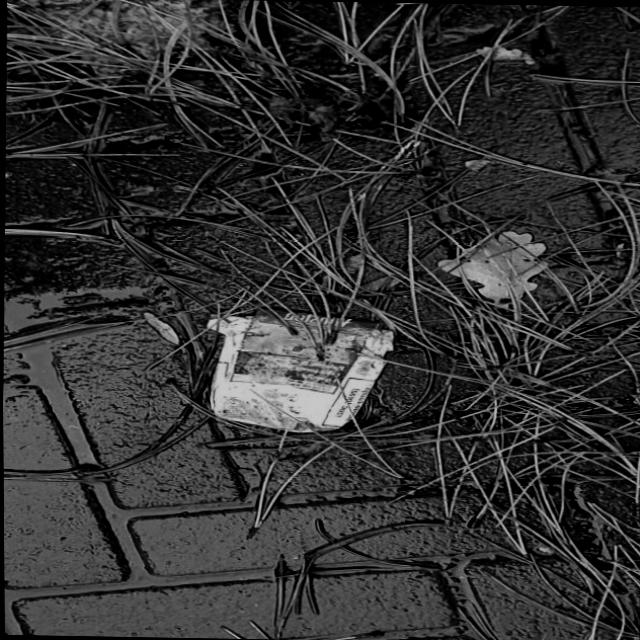Paper: (199, 305, 398, 434)
